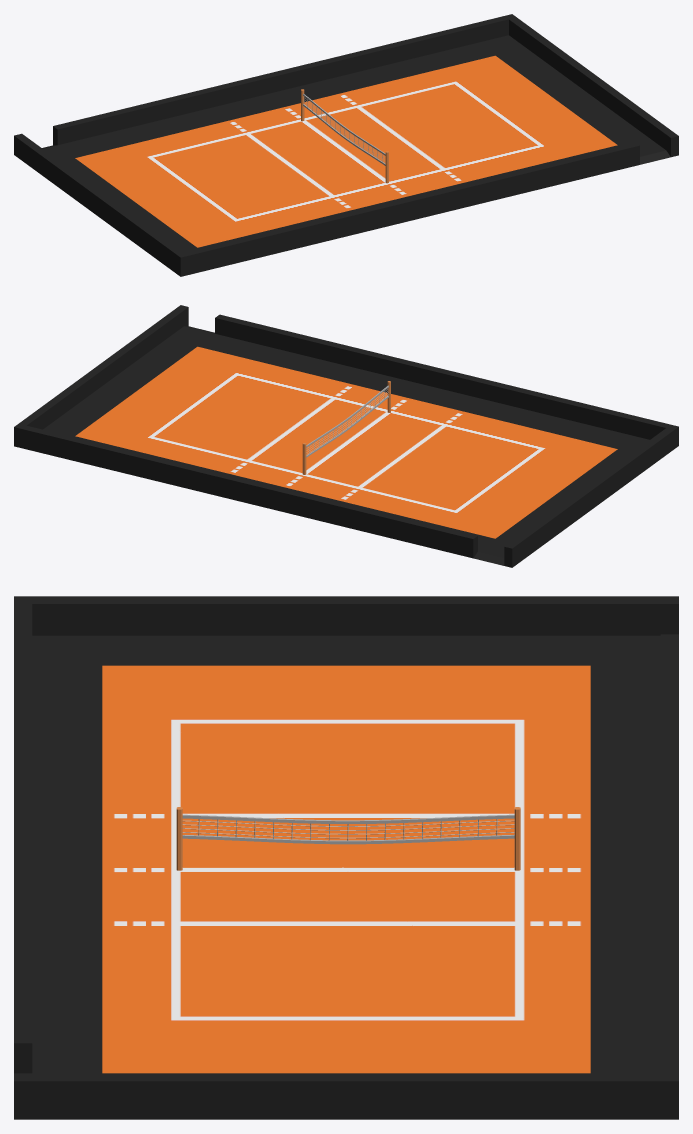
Rendered from VoleyballCourt.fbx.
The picture shows the model from 3 angles, top to bottom: view 1: azimuth 30°, elevation 25°; view 2: azimuth 150°, elevation 25°; view 3: azimuth 270°, elevation 25°; orthographic projection. The views are drawn at different scales.
Parts seen in each view (by area): view 1: FootballArea, footballoutground, VolleyballNet.001; view 2: FootballArea, footballoutground, VolleyballNet.001; view 3: FootballArea, footballoutground, VolleyballNet.001.
Part boxes in pixels (bbox=[...]): FootballArea: bbox=[75, 55, 617, 247]; footballoutground: bbox=[14, 14, 678, 276]; VolleyballNet.001: bbox=[303, 94, 385, 165]; FootballArea: bbox=[75, 346, 617, 538]; footballoutground: bbox=[14, 305, 678, 567]; VolleyballNet.001: bbox=[306, 385, 388, 457]; FootballArea: bbox=[102, 665, 590, 1073]; footballoutground: bbox=[14, 596, 678, 1119]; VolleyballNet.001: bbox=[182, 814, 514, 844].
Size of the model in its own units: 5001 by 327 by 2899.
